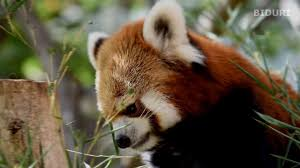redPanda: (85, 4, 294, 148)
